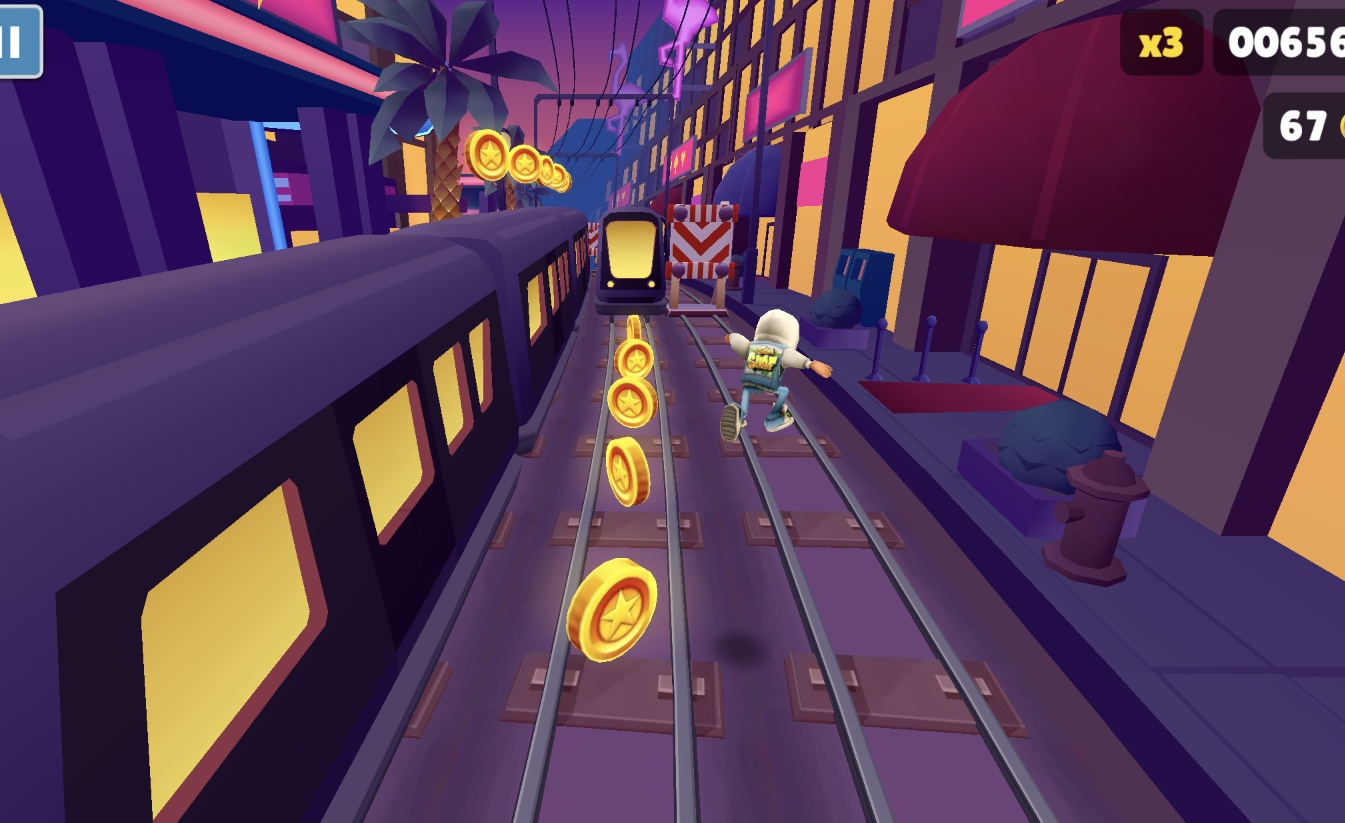overhead_barrier: (663, 204, 745, 319), (587, 221, 600, 274)
train: (0, 209, 595, 823), (594, 207, 672, 320)
